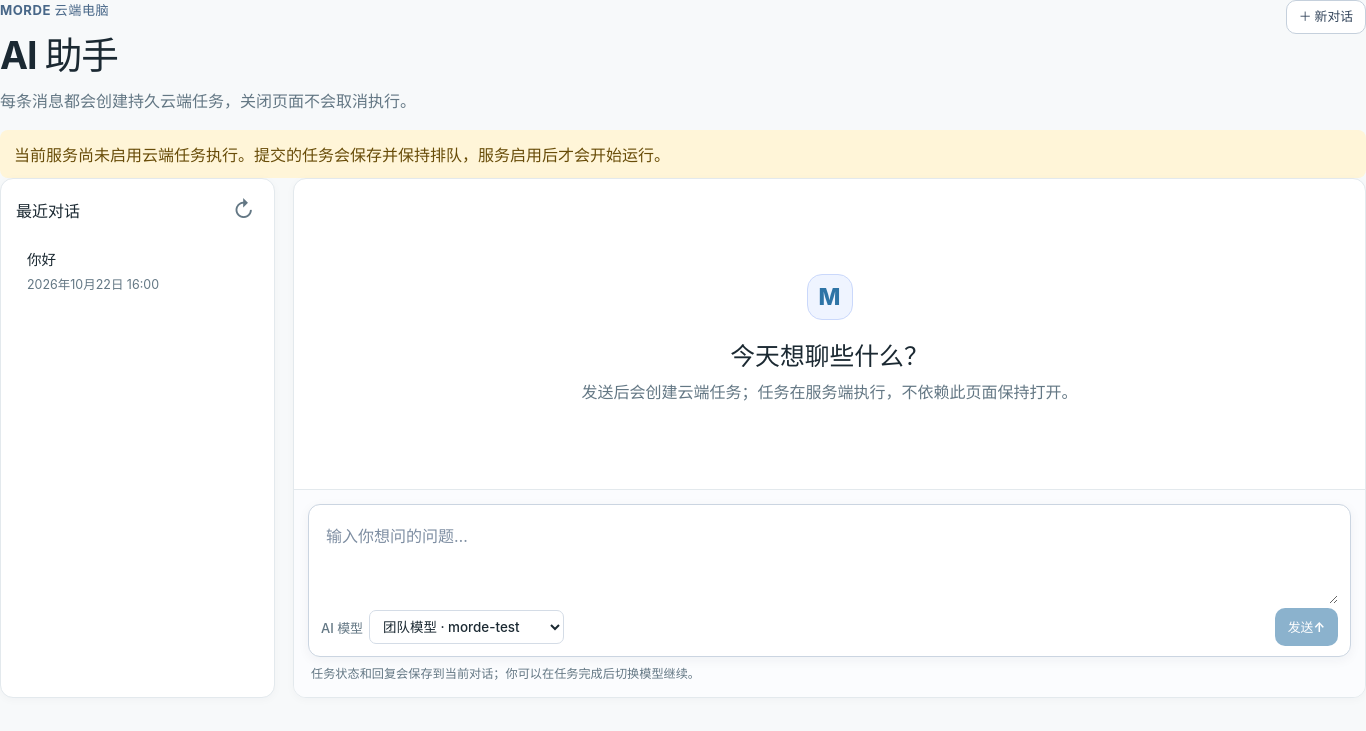
Assistant durable tasks › appends a task to an existing conversation and explains the disabled cloud worker queue
Click the button "你好": x=138, y=270 [16,236,259,305]
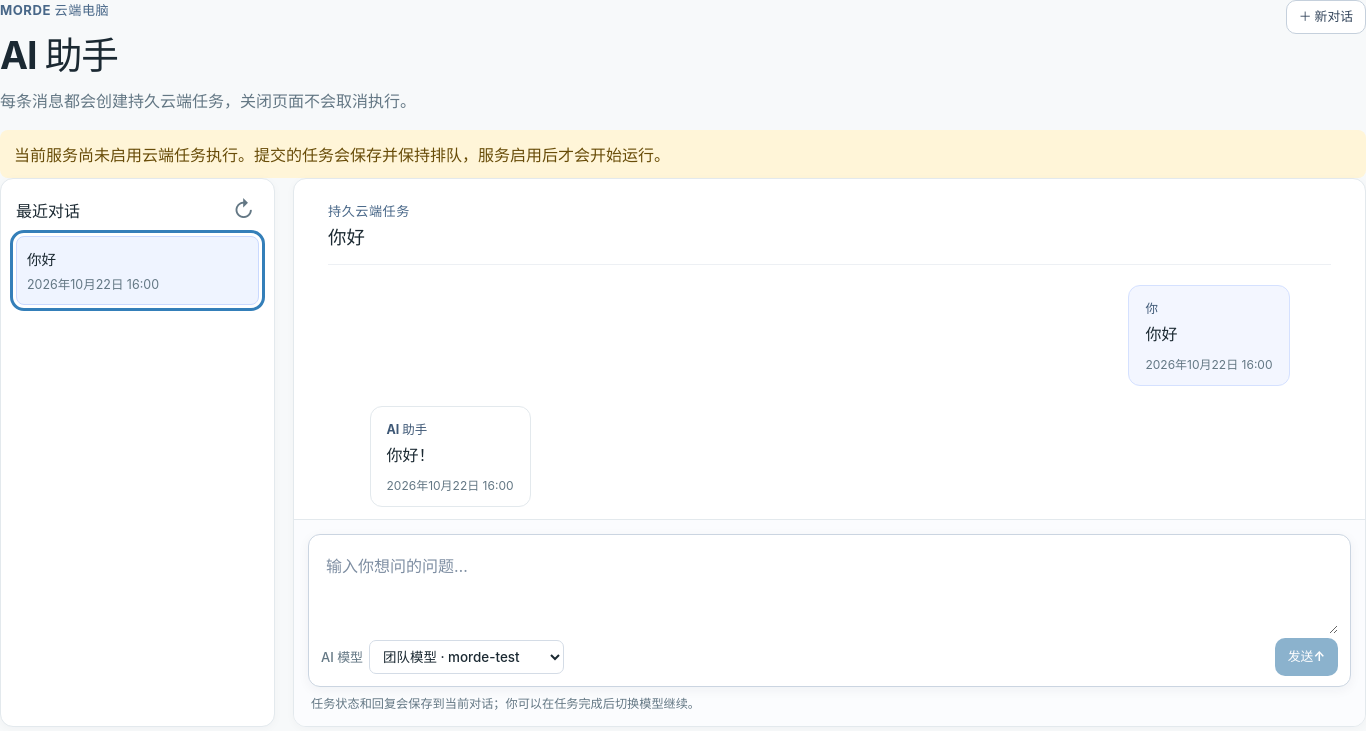
Check: the text "你好！" is shown, box [386,445,434,465]
Select "备用模型 · morde-test" in the dropdown named "选择 AI 模型": x=467, y=657 [369,640,564,674]
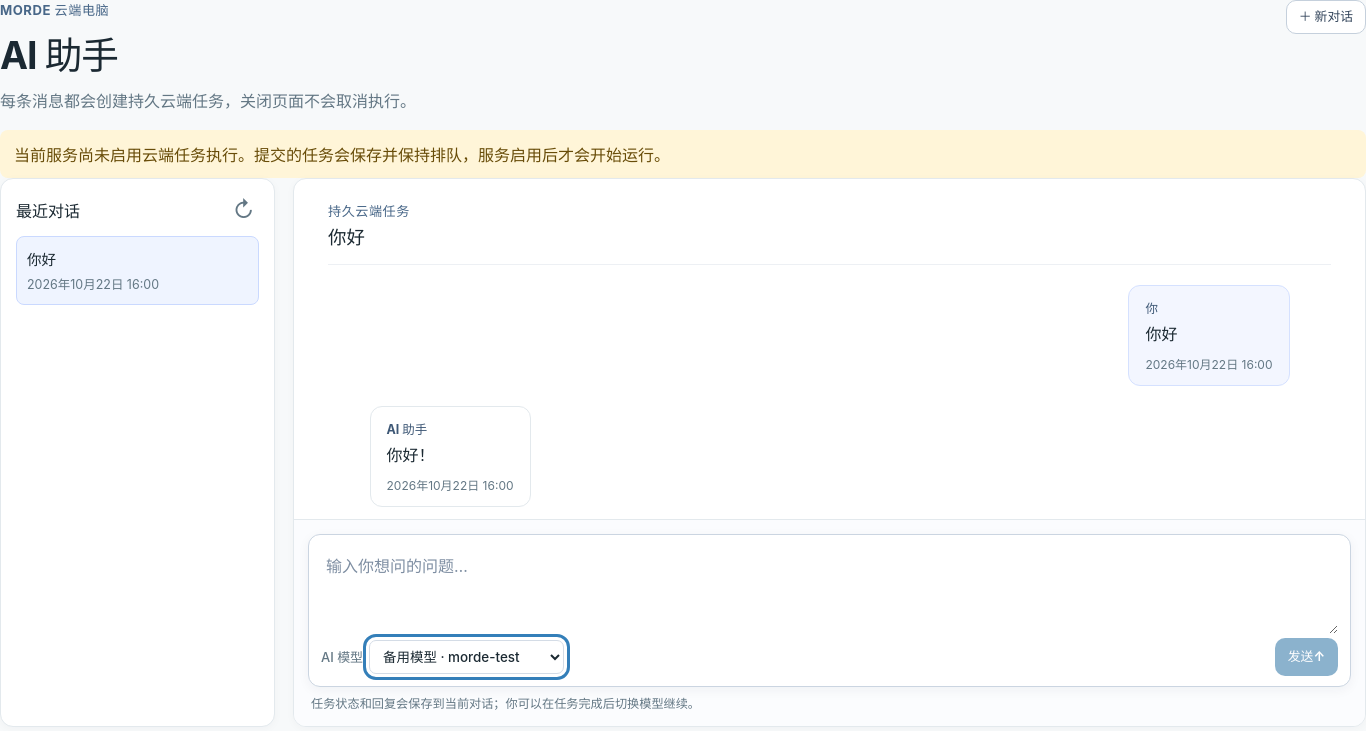
In the text box named "消息内容": x=830, y=590 [321,546,1338,634], type "继续"
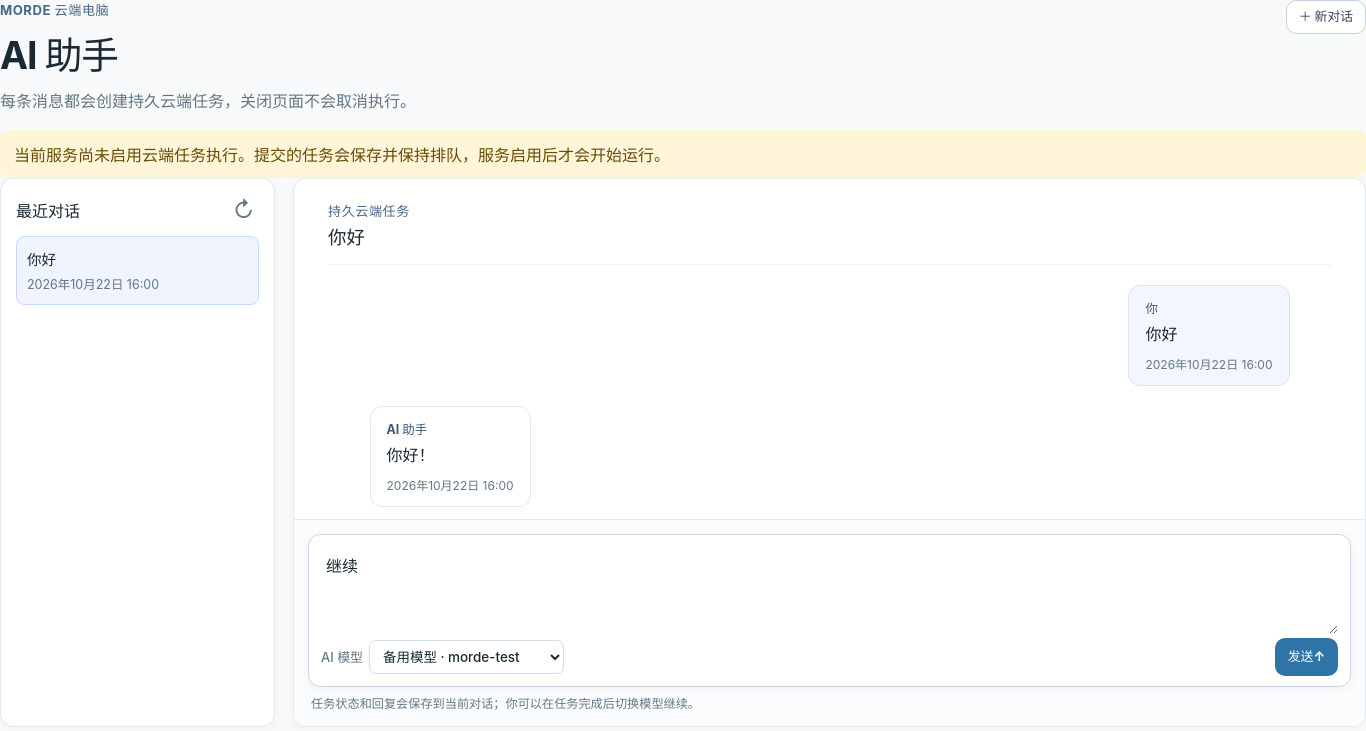
Click the button "发送 ↑": x=1306, y=657 [1275,638,1338,676]
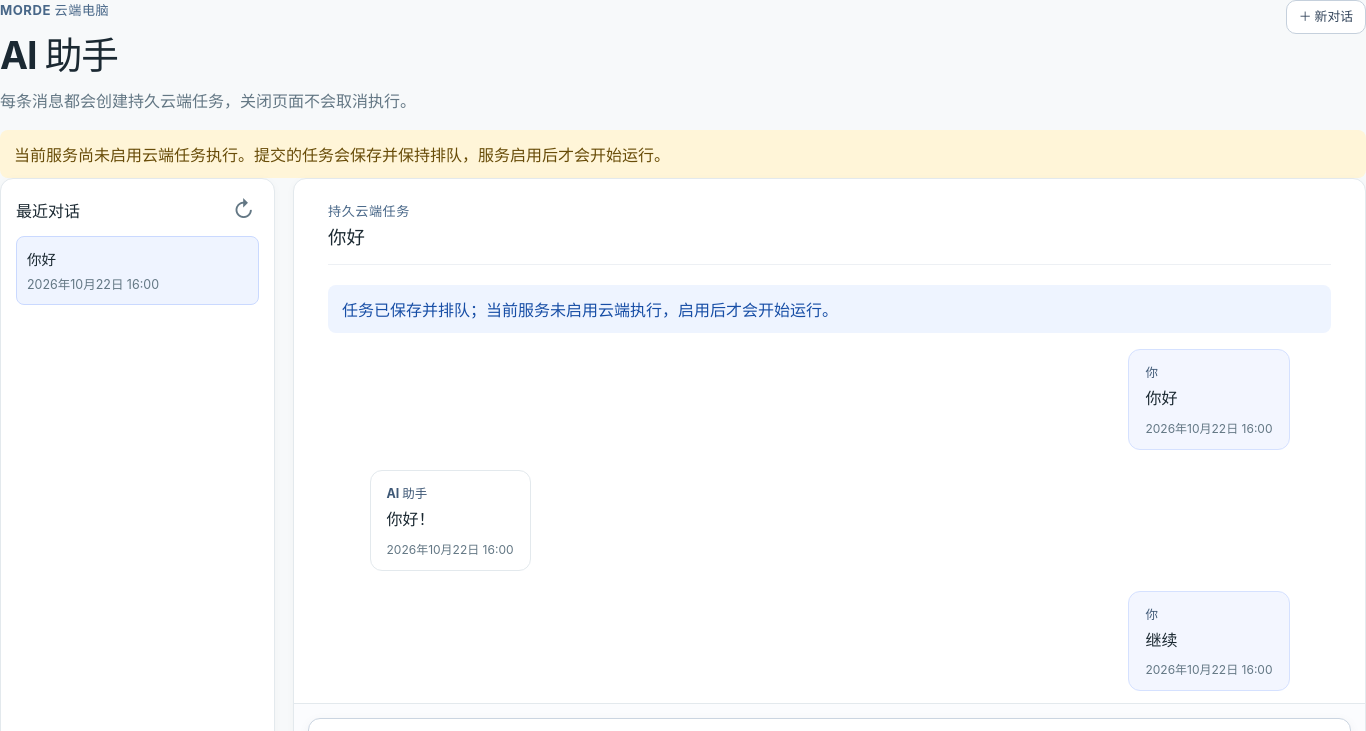
Check: the text "当前服务尚未启用云端任务执行。提交的任务会保存并保持排队，服务启用后才会开始运行。" is shown, box [0,130,1365,178]
Check: the text "任务已保存并排队；当前服务未启用云端执行，启用后才会开始运行。" is shown, box [328,285,1331,333]
